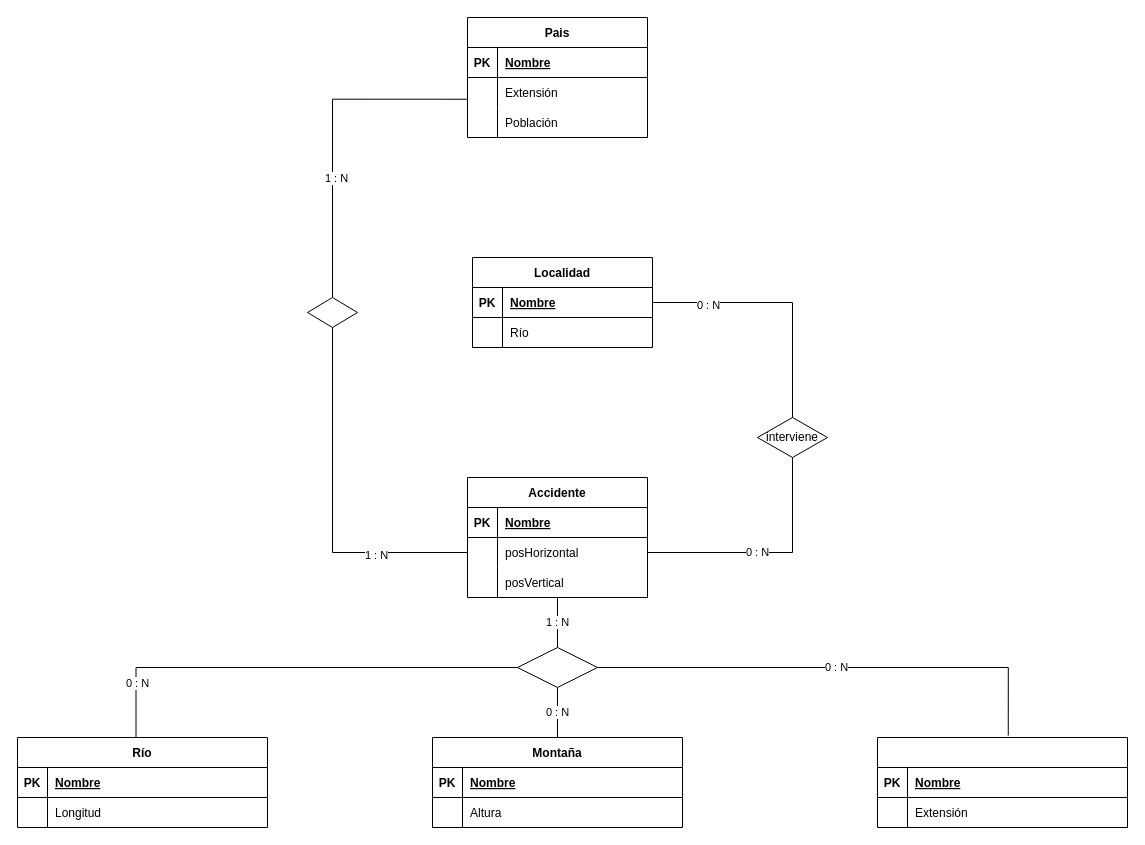
This 1145x845 diagram has some shape labels left out. Each missing label, with the box of its shape:
está: (306, 296, 358, 328)
Lago: (876, 736, 1128, 828)
pueden ser: (516, 646, 598, 688)
